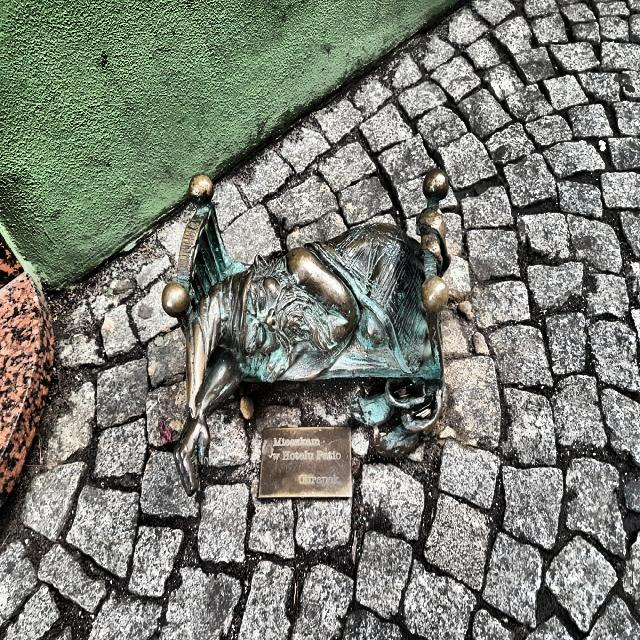Chrapek: (162, 170, 449, 494)
